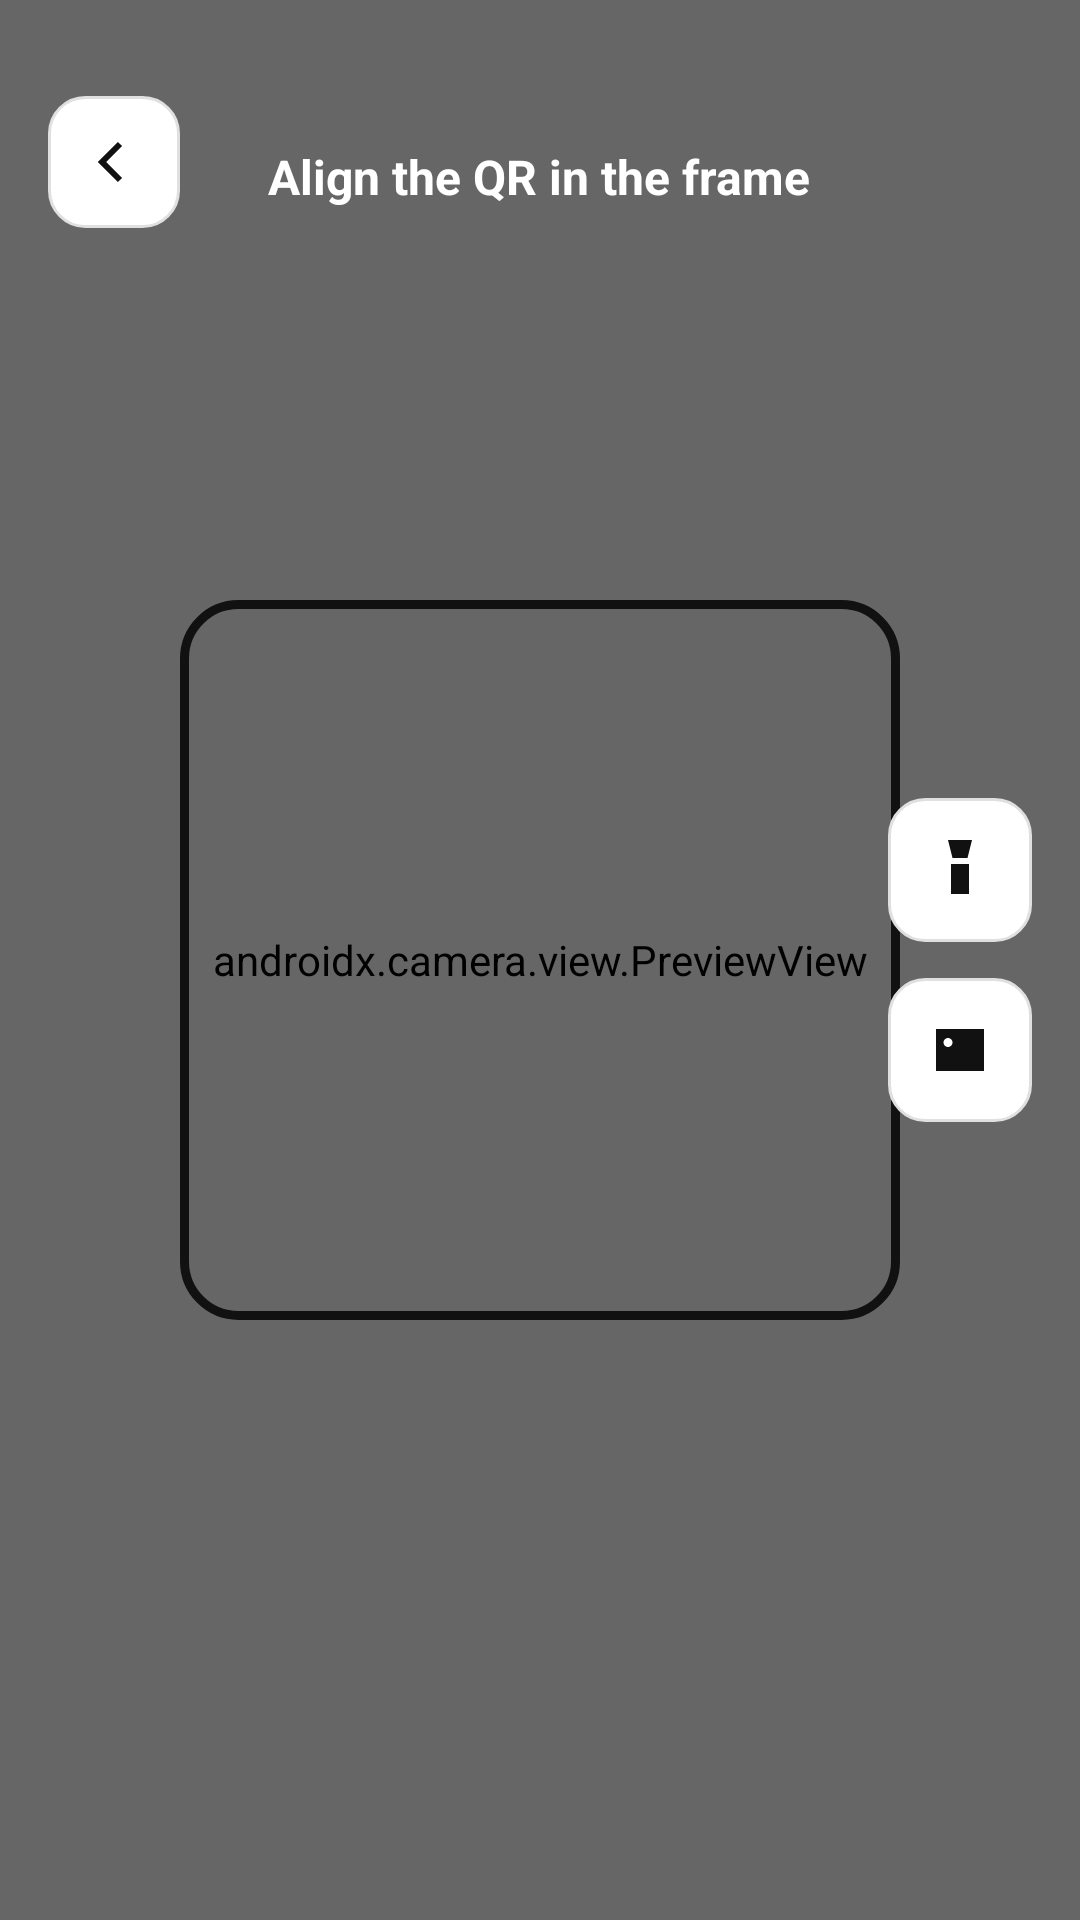

Icons on this 1080px×1920px Android screen, each with the point to tap as [x,y]:
Back: [114,162]
Flashlight: [960,870]
Gallery: [960,1050]
